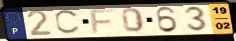0: (120, 7, 147, 35)
2: (25, 10, 54, 37)
3: (184, 5, 209, 33)
6: (155, 5, 179, 34)
C: (53, 9, 82, 36)
F: (88, 8, 116, 35)
